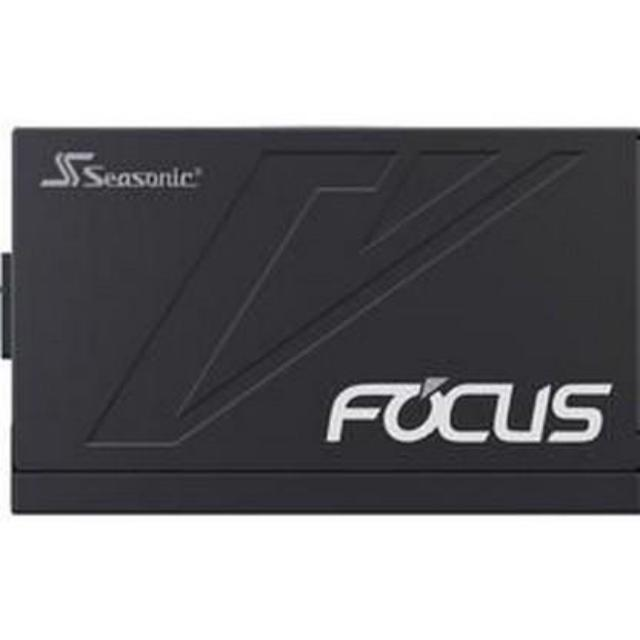PSU: (0, 116, 640, 530)
